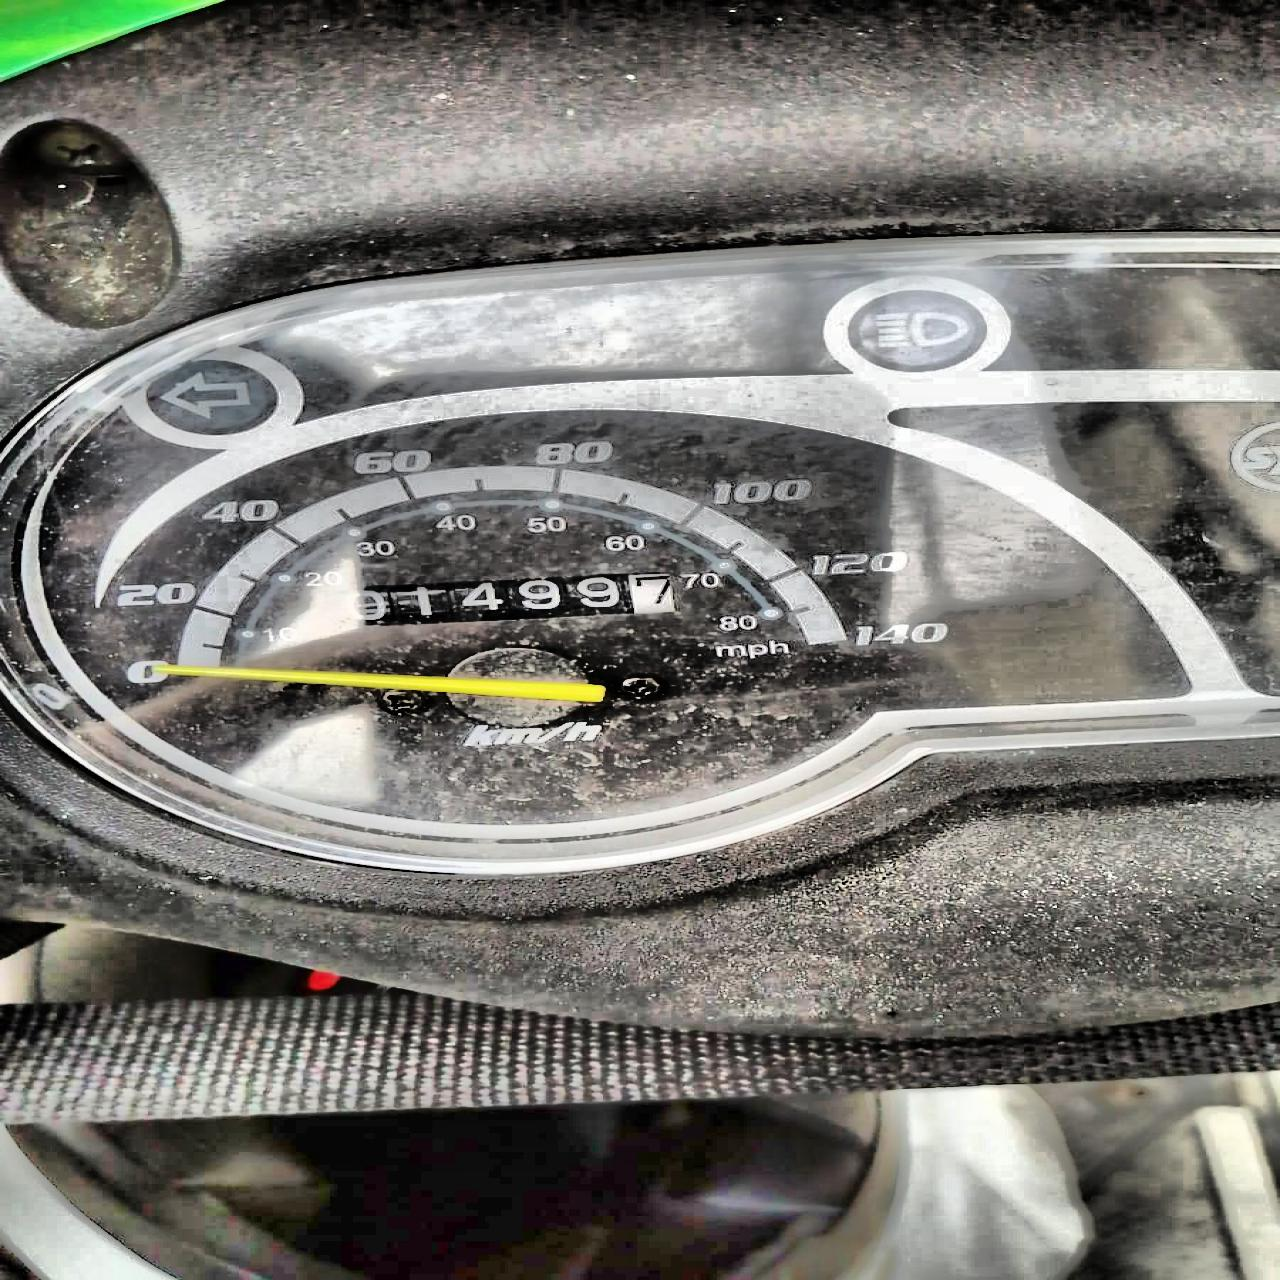0: (343, 588, 388, 621)
1: (407, 585, 438, 618)
4: (458, 579, 505, 611)
7: (629, 573, 674, 605)
9: (516, 579, 563, 612), (577, 574, 621, 607)
odometer: (334, 571, 681, 632)
